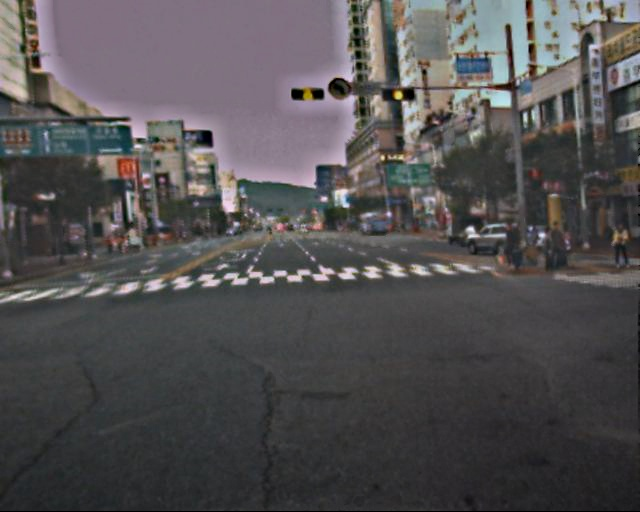person: (605, 221, 631, 272), (548, 220, 568, 272), (503, 218, 522, 268), (542, 227, 562, 274)
